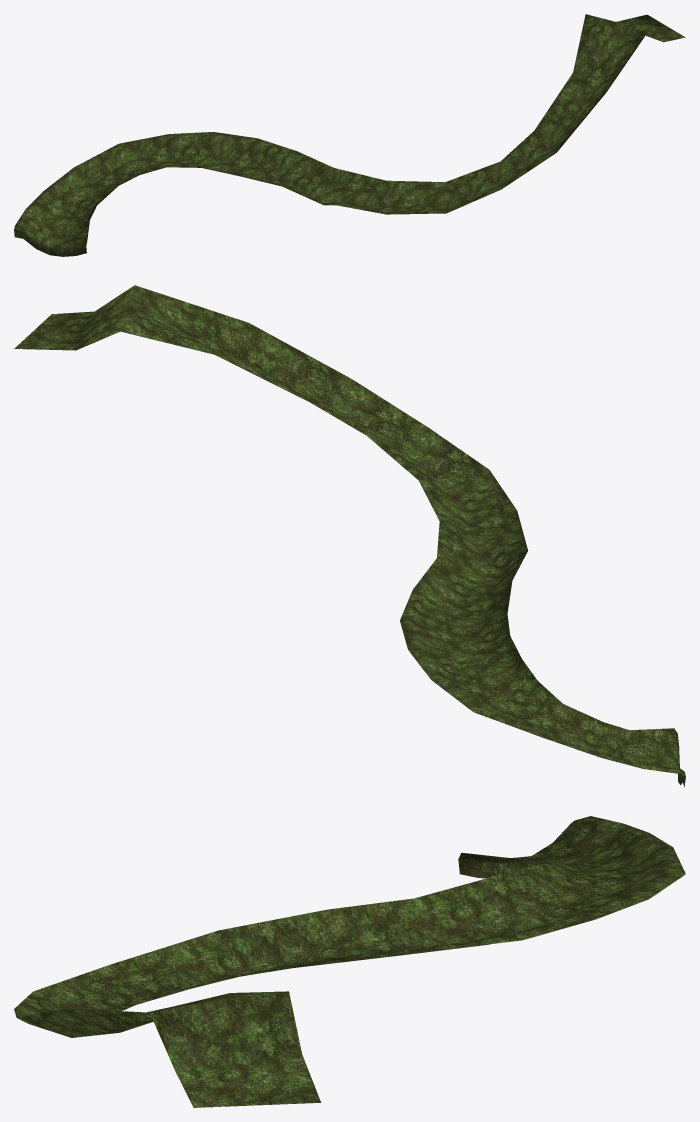
The model's file is OVERHILL_A_01_LINE118.fbx.
3 renders of one model, top to bottom at view 1: azimuth 30°, elevation 25°; view 2: azimuth 150°, elevation 25°; view 3: azimuth 270°, elevation 25°, orthographic. The views are drawn at different scales.
Visible parts, largest first — view 1: OVERHILL_A_01_LINE118; view 2: OVERHILL_A_01_LINE118; view 3: OVERHILL_A_01_LINE118.
Boxes of the visible parts, x1,y1,x2,y2 form: OVERHILL_A_01_LINE118: (14,14,685,256); OVERHILL_A_01_LINE118: (14,285,685,787); OVERHILL_A_01_LINE118: (14,816,685,1107).
Size of the model in its own units: 217885 by 63317 by 115725.
1 material, 1 textured.
